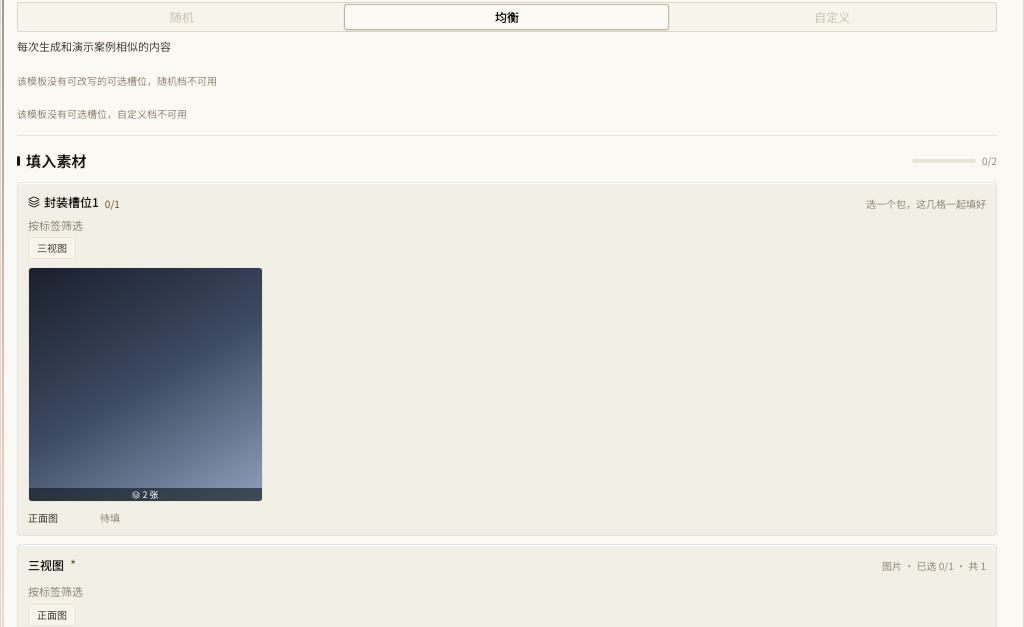
Test case: 模板库 · 点封装包填多格 › 不在这个容器里的槽位，不会被包顺带改掉
(page scrolled)
What coordinates should you click on to do the following:
click the button titled "6036 黑（封装 · 2 张）"
I would click on:
 (146, 385)
Its box is x1=28 y1=267 x2=263 y2=502.
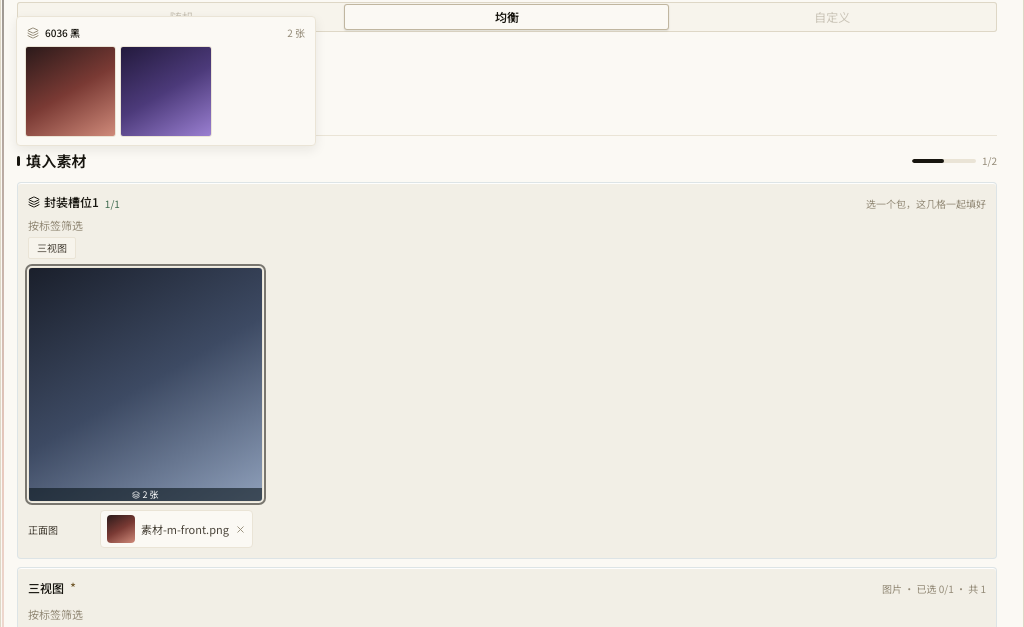
Expected: the text "素材-m-front.png" is shown, x1=141 y1=521 x2=229 y2=537
